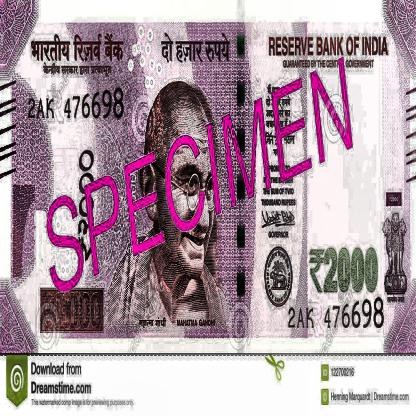Rs2000: (306, 236, 384, 303)
